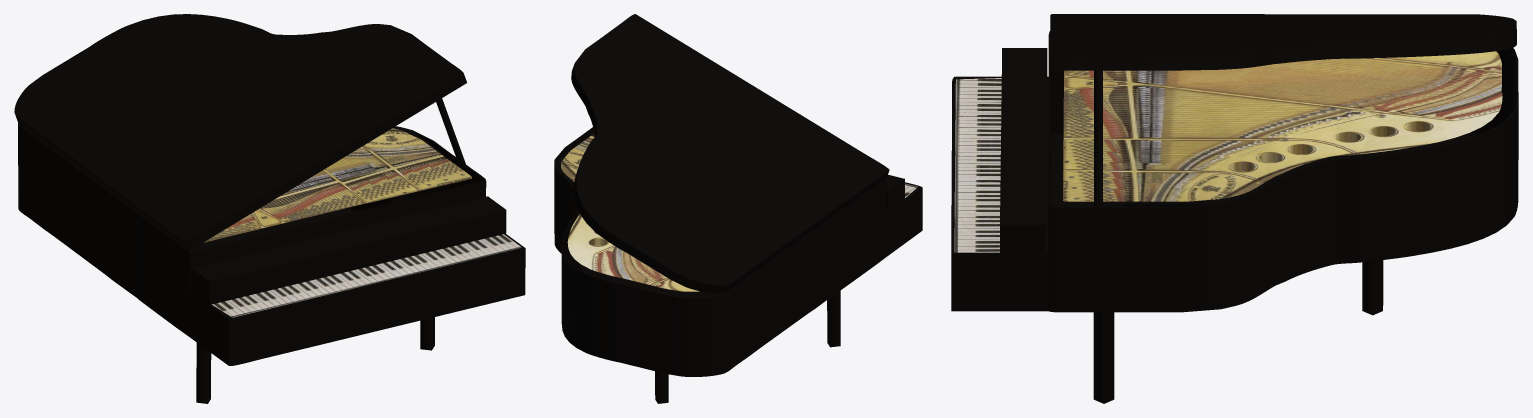
File: Piano.fbx
3 views of the same model, side by side, from view 1: azimuth 30°, elevation 25°; view 2: azimuth 150°, elevation 25°; view 3: azimuth 270°, elevation 25° (orthographic). The views are drawn at different scales.
Parts seen in each view (by area): view 1: CorePiano, Shape002, CorePiano001, Cylinder002, Cylinder001, Cylinder003; view 2: CorePiano, Shape002, CorePiano001, Cylinder002, Cylinder004; view 3: Shape002, CorePiano001, CorePiano, Cylinder003, Cylinder001, Cylinder004.
Boxes of the visible parts, x1,y1,x2,y2 form: CorePiano: (14, 14, 466, 250); Shape002: (18, 123, 525, 365); CorePiano001: (204, 128, 471, 242); Cylinder002: (196, 343, 211, 403); Cylinder001: (436, 98, 466, 169); Cylinder003: (420, 317, 434, 350); CorePiano: (571, 14, 889, 293); Shape002: (554, 127, 922, 376); CorePiano001: (561, 134, 699, 291); Cylinder002: (827, 290, 840, 347); Cylinder004: (655, 371, 668, 403); Shape002: (951, 31, 1518, 312); CorePiano001: (1063, 51, 1502, 201); CorePiano: (1049, 14, 1516, 70); Cylinder003: (1093, 312, 1114, 403); Cylinder001: (1094, 70, 1102, 206); Cylinder004: (1362, 260, 1383, 315).
Bounding box in the file's own units: 78.76 × 71.72 × 105.
Materials: 3 (2 with a texture image).
